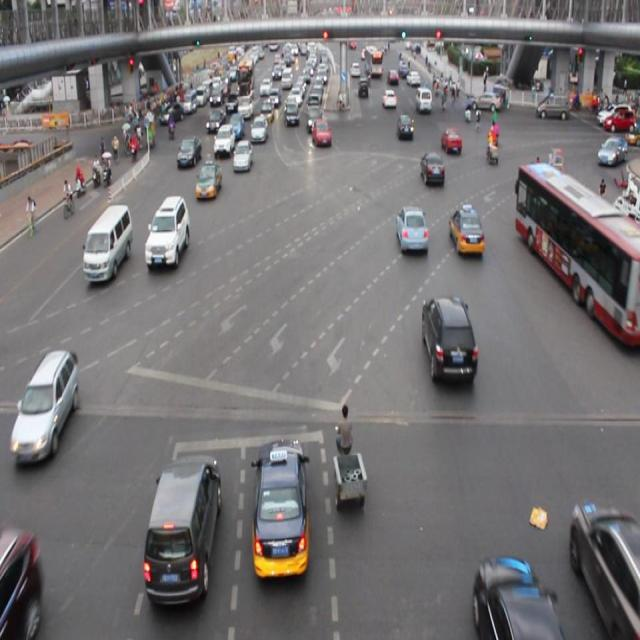car: (572, 500, 640, 640), (249, 436, 310, 579), (11, 348, 77, 466), (473, 556, 554, 640), (419, 295, 474, 382), (0, 528, 40, 640), (145, 194, 190, 268), (449, 203, 483, 256), (396, 204, 428, 254), (195, 160, 221, 201), (419, 149, 444, 188), (177, 135, 200, 168), (309, 118, 332, 150), (214, 123, 235, 158), (233, 138, 252, 174), (440, 126, 461, 155), (395, 110, 413, 142), (249, 114, 268, 144), (205, 108, 223, 134)
truck: (144, 453, 218, 604), (83, 205, 132, 280)
van: (518, 164, 640, 347)
